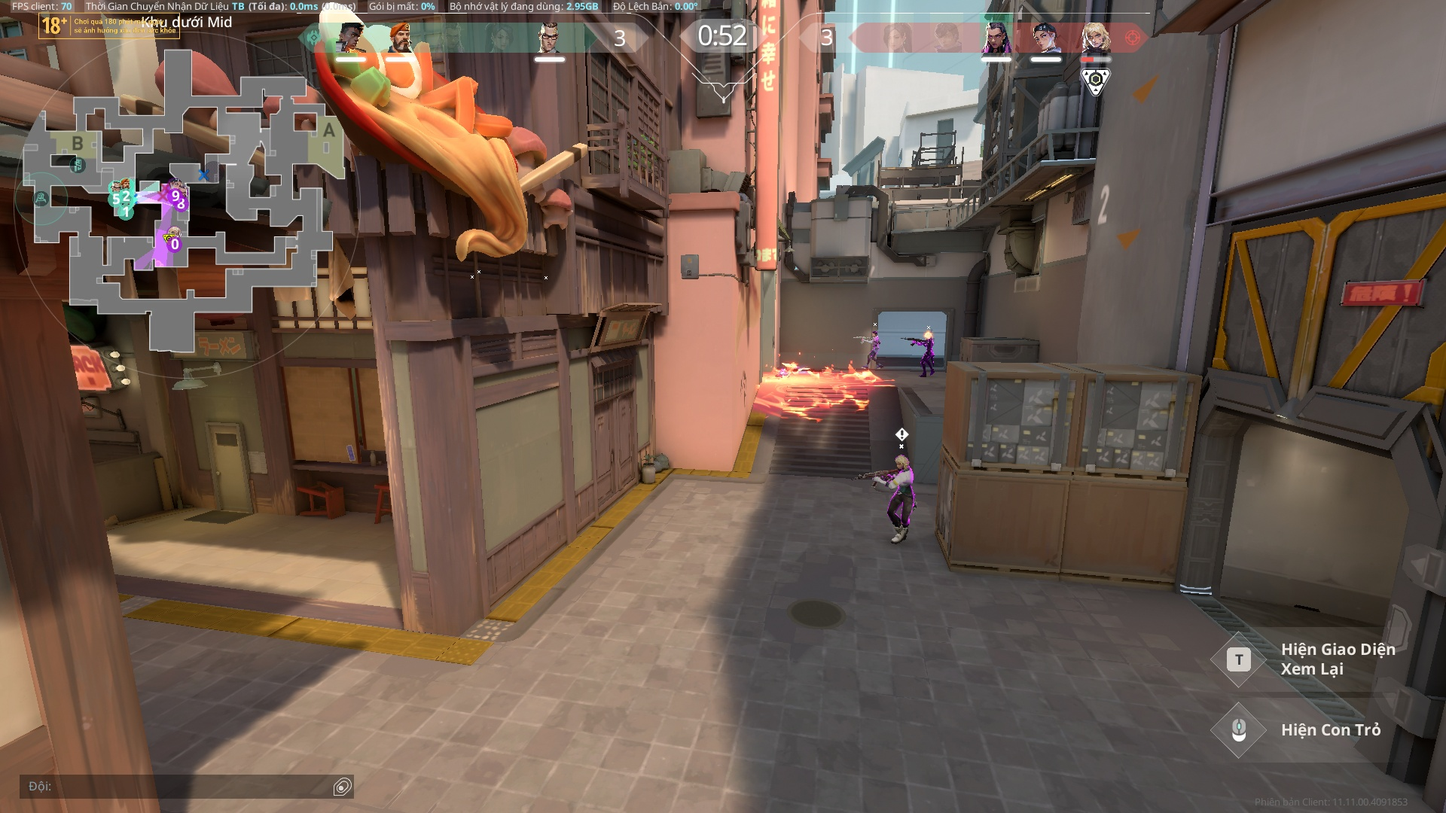body: (895, 468, 915, 496), (923, 339, 935, 354), (871, 336, 880, 349)
head: (895, 454, 909, 467), (924, 332, 932, 340), (871, 330, 878, 337)
